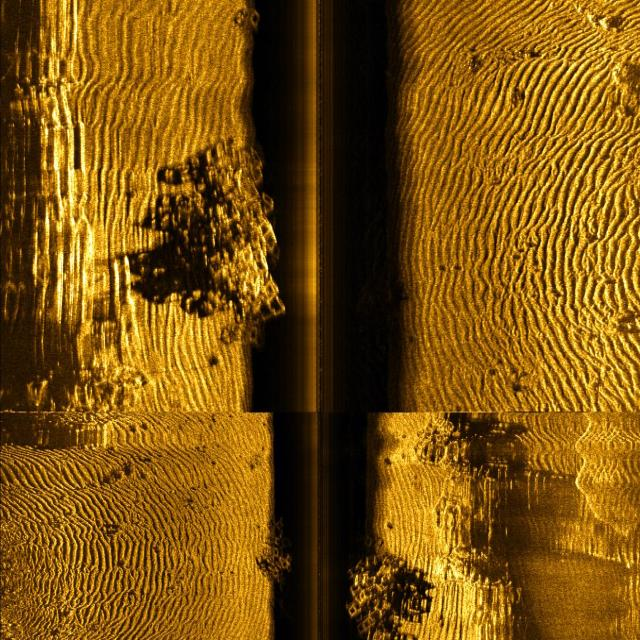artificial reef: (190, 138, 292, 376), (352, 542, 411, 640), (270, 510, 302, 605), (238, 0, 263, 40)
